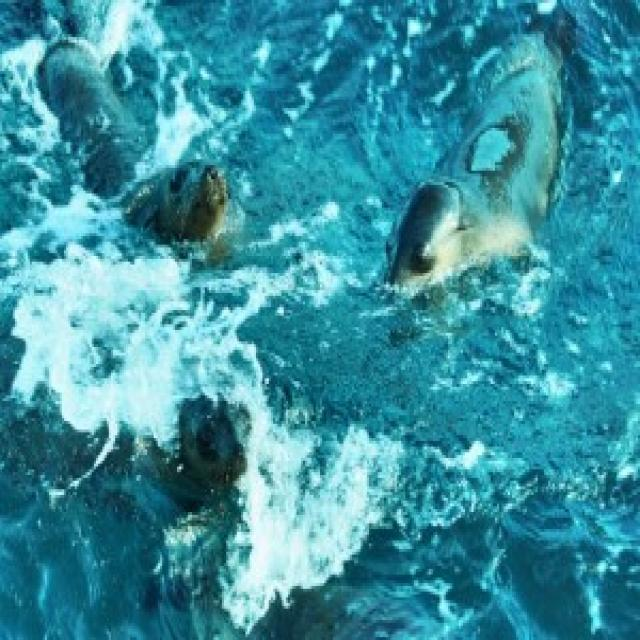Seal: (364, 47, 565, 303), (34, 44, 236, 261), (166, 396, 283, 516)
